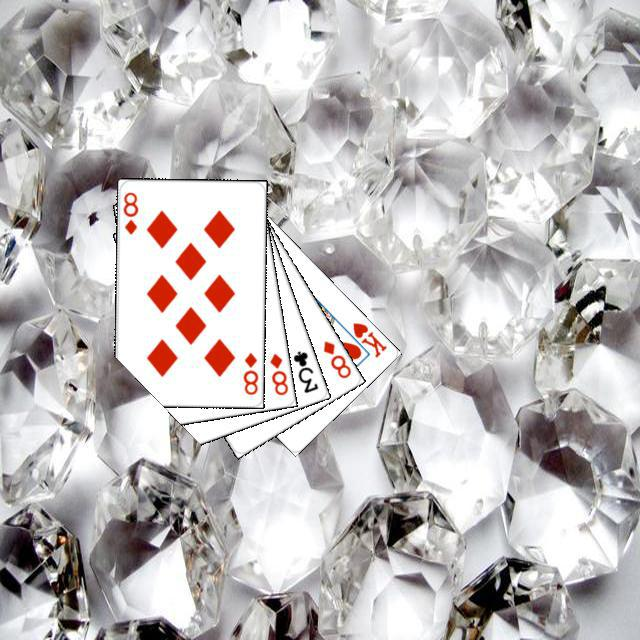3c: (288, 346, 320, 395)
8d: (318, 336, 353, 380), (265, 348, 290, 397), (118, 187, 140, 236), (238, 348, 259, 396)
Kh: (338, 318, 388, 359)
